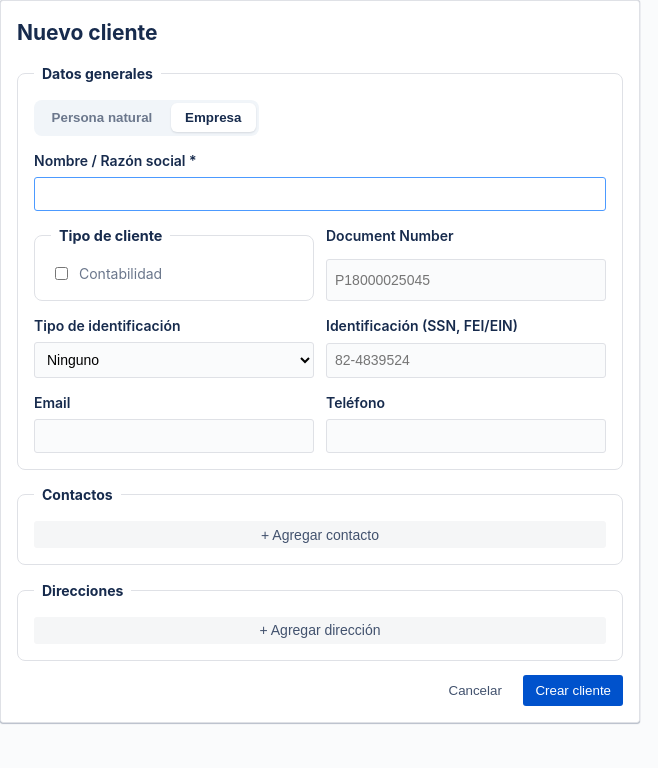
Test: PartyForm › exige el nombre antes de enviar
The width and height of the screenshot is (658, 768).
Click the button "Crear cliente" at (573, 691), box 523,675 -> 623,706
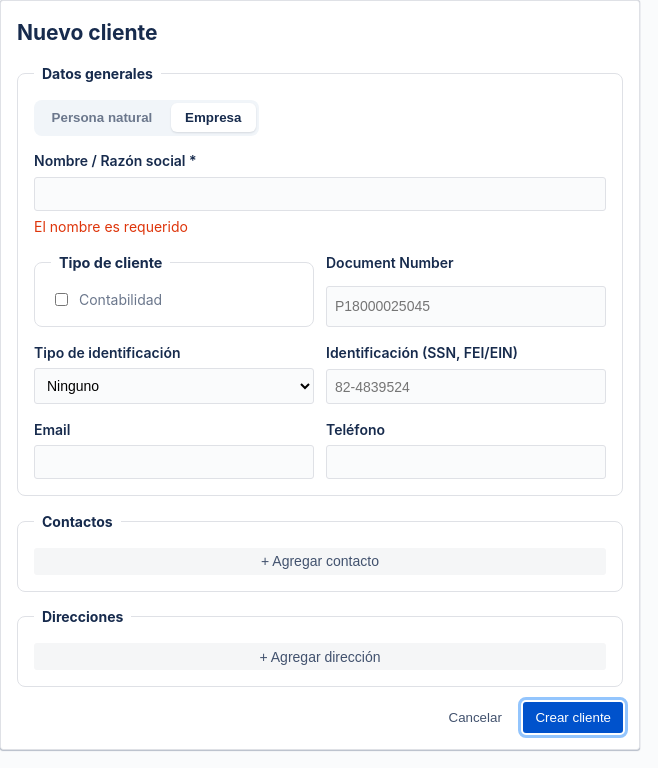
Result: the text "El nombre es requerido" is shown at 34,218 -> 188,235
